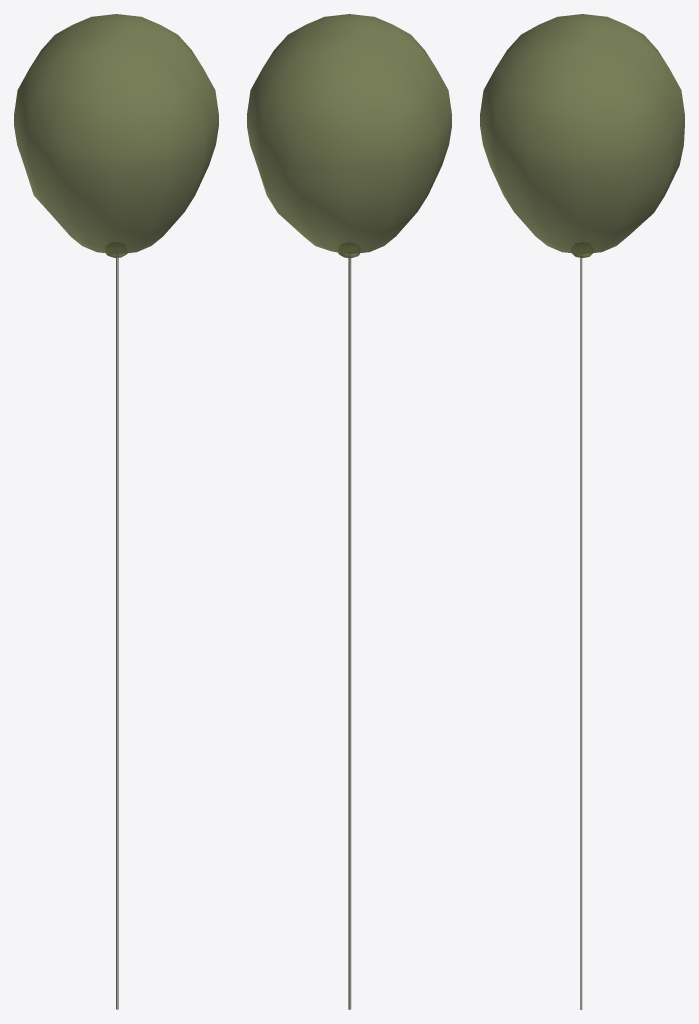
Rendered from Balloon_Green.fbx.
The picture shows the model from 3 angles, left to right: view 1: azimuth 30°, elevation 25°; view 2: azimuth 150°, elevation 25°; view 3: azimuth 270°, elevation 25°; orthographic projection.
Parts seen in each view (by area): view 1: Balloon_Green; view 2: Balloon_Green; view 3: Balloon_Green.
Part boxes in pixels (x1,y1,x2,y2): Balloon_Green: (14, 14, 218, 1009); Balloon_Green: (247, 14, 451, 1009); Balloon_Green: (480, 14, 684, 1009).
Size of the model in its own units: 49.42 by 263 by 49.42.
